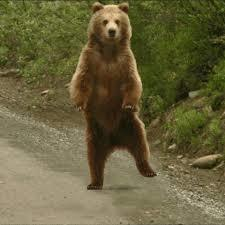bear: (68, 2, 166, 192)
